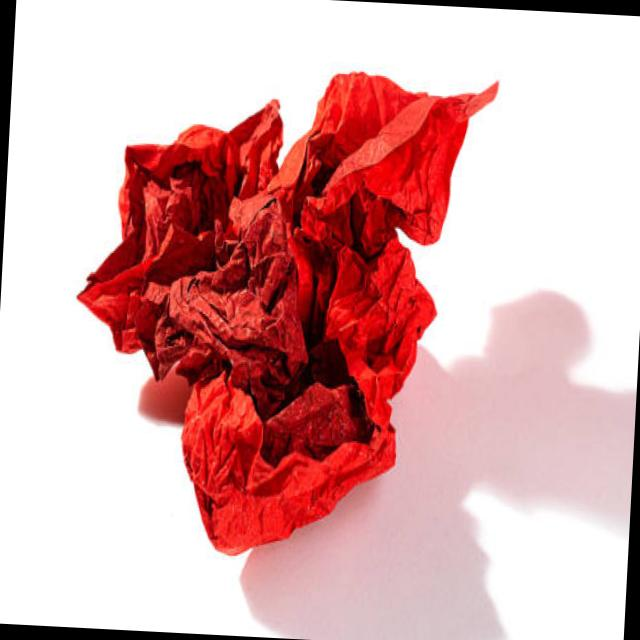electronic: (63, 52, 500, 568)
